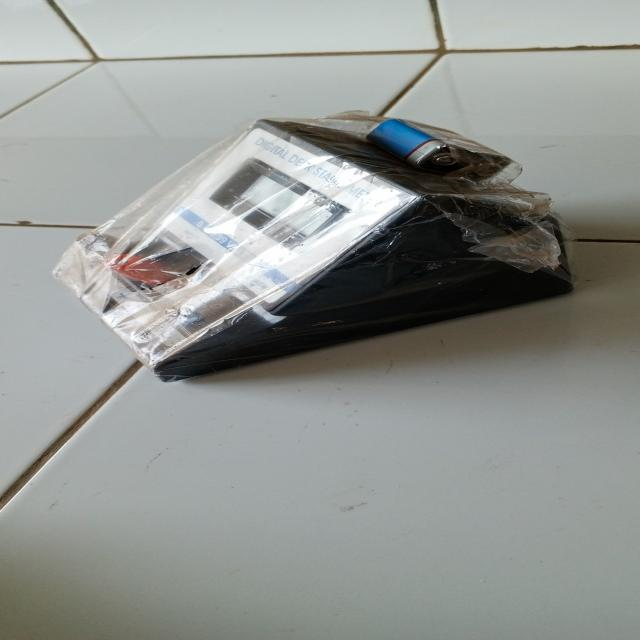Digital Voltmeter 0-20V: (21, 113, 594, 390)
